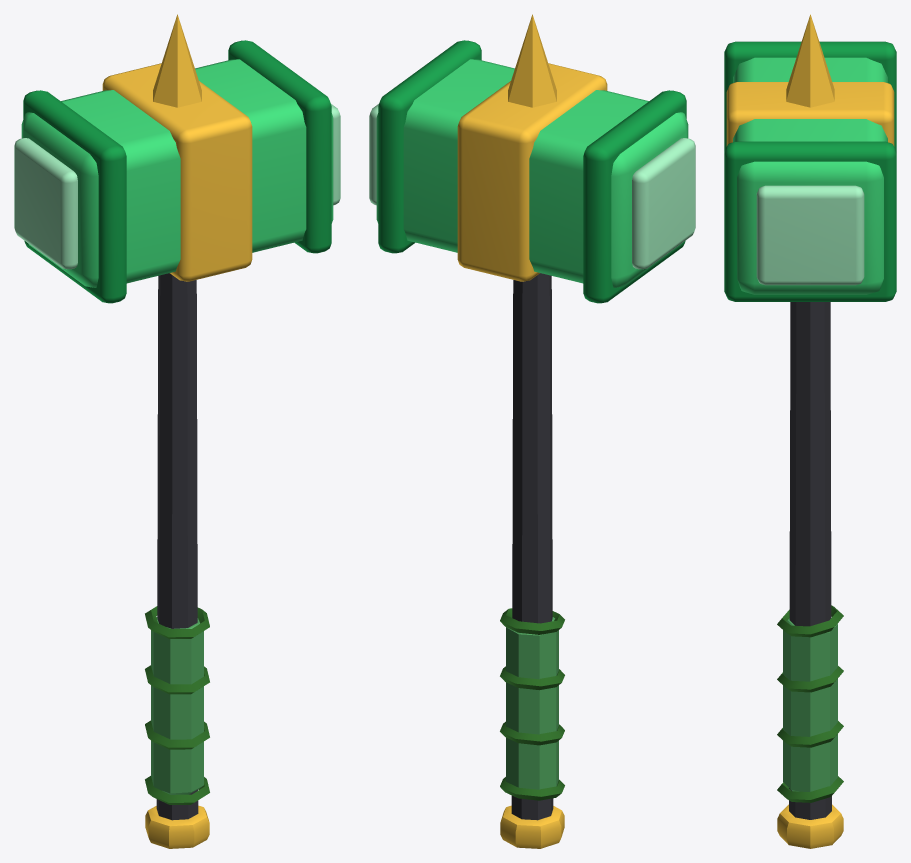
Rendered from EmeraldWarHammer.fbx.
The picture shows the model from 3 angles, left to right: view 1: azimuth 30°, elevation 25°; view 2: azimuth 150°, elevation 25°; view 3: azimuth 270°, elevation 25°; orthographic projection.
Parts seen in each view (by area): view 1: EmeraldWarHammer; view 2: EmeraldWarHammer; view 3: EmeraldWarHammer.
Boxes of the visible parts, left/top/right/bottom form: EmeraldWarHammer: left=14, top=14, right=340, bottom=848; EmeraldWarHammer: left=369, top=14, right=695, bottom=848; EmeraldWarHammer: left=724, top=14, right=896, bottom=848.
Size of the model in its own units: 1.5 by 4.23 by 0.8.
Materials: 1 (1 with a texture image).
